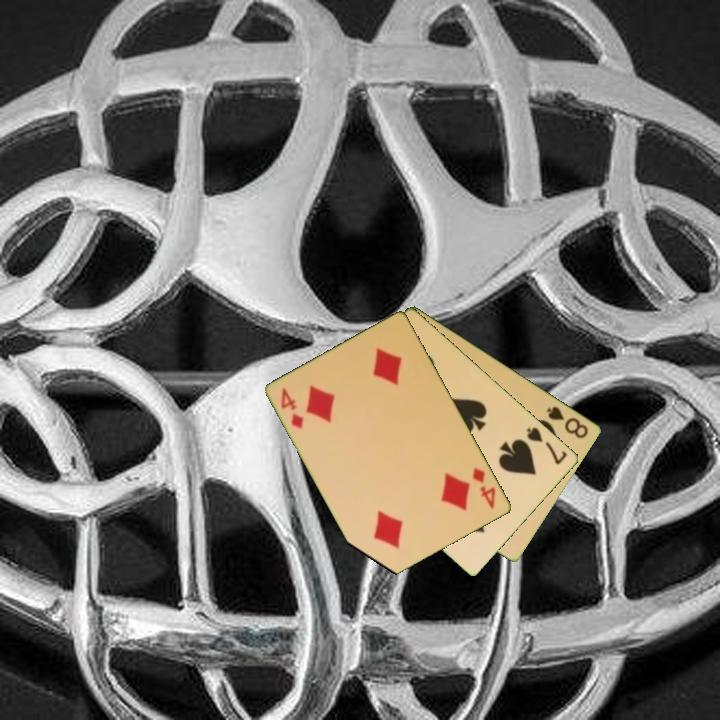4d: (469, 464, 499, 512), (277, 384, 307, 432)
7s: (523, 423, 570, 468)
8s: (543, 402, 591, 441)
